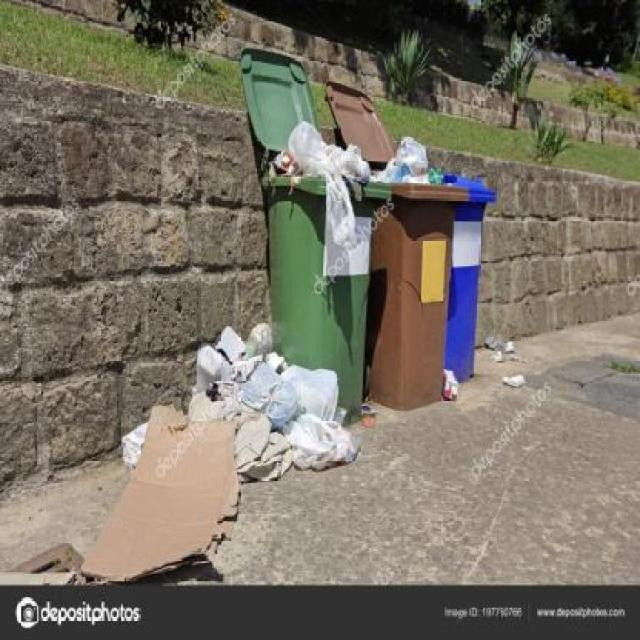garbage: (117, 337, 346, 480), (251, 128, 452, 191)
